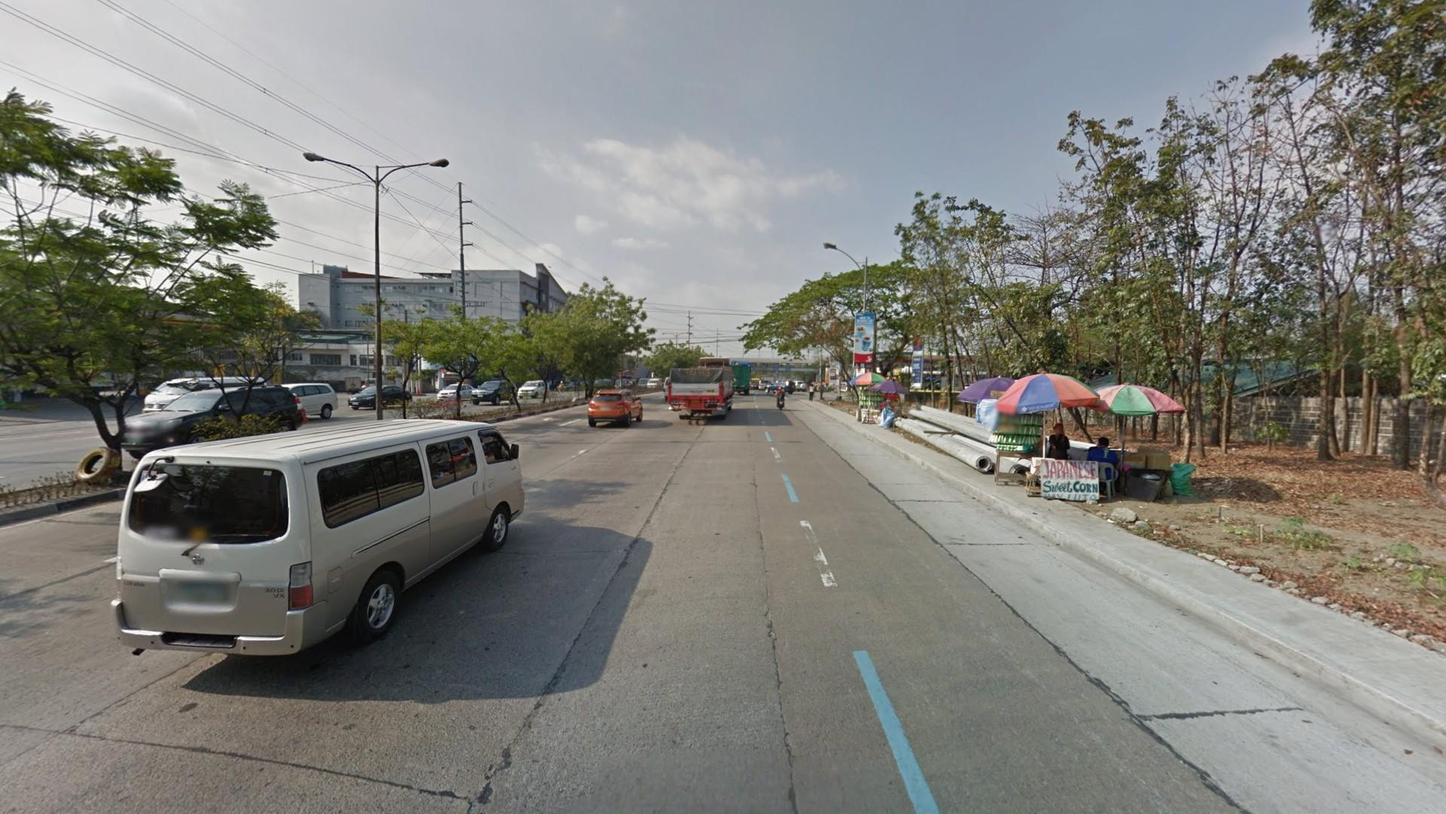pedestrian: (1086, 436, 1120, 494), (1046, 423, 1071, 478), (807, 383, 815, 401)
